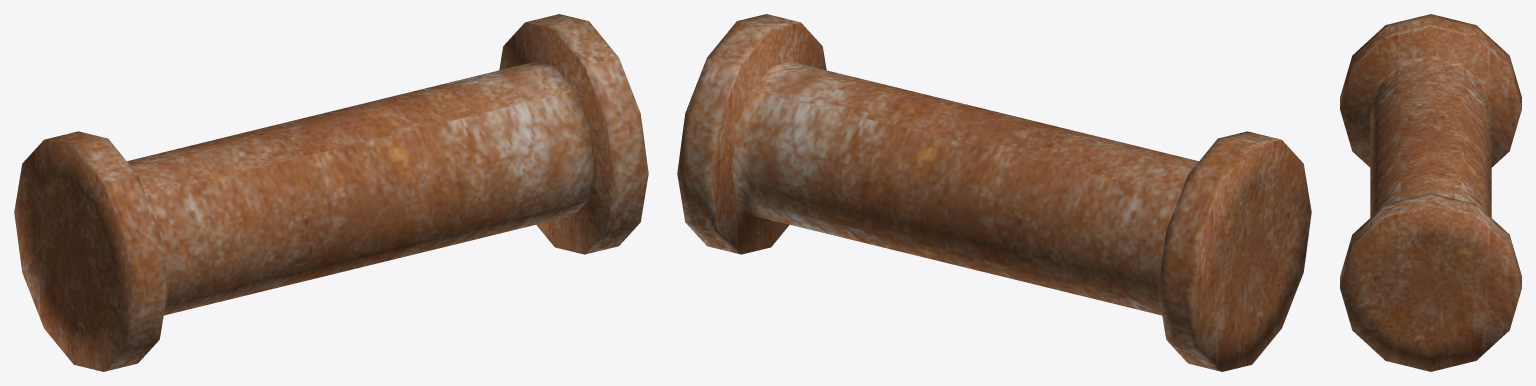
The model's file is pipe.short.fbx.
3 views of the same model, side by side, from view 1: azimuth 30°, elevation 25°; view 2: azimuth 150°, elevation 25°; view 3: azimuth 270°, elevation 25° (orthographic). The views are drawn at different scales.
Parts seen in each view (by area): view 1: Cylinder; view 2: Cylinder; view 3: Cylinder.
Boxes of the visible parts, box(x1,y1,x2,y2) form: Cylinder: box(14, 14, 648, 371); Cylinder: box(677, 14, 1311, 371); Cylinder: box(1340, 14, 1521, 371).
Size of the model in its own units: 150 by 60.56 by 60.03.
Materials: 1 (1 with a texture image).
